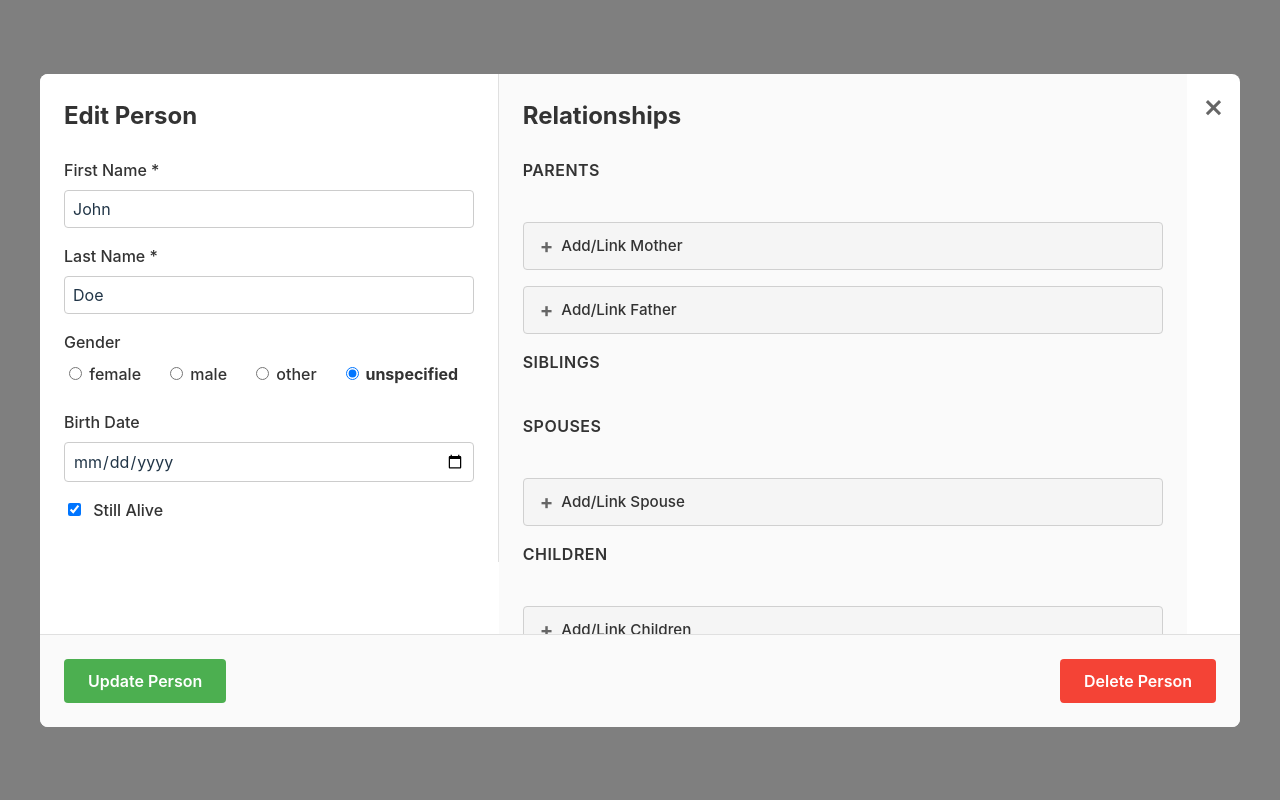
Test case: PersonModal - Spouses Section with CollapsibleActionPanel (Issue #54) › AC2: Expand shows Create/Link options › should expand panel and show two option buttons when clicked
This screenshot has width=1280, height=800.
WHEN user clicks the trigger button
Click the button with class "trigger-button" showing "+ Add/Link Spouse": click(623, 502) [523,478,1163,526]
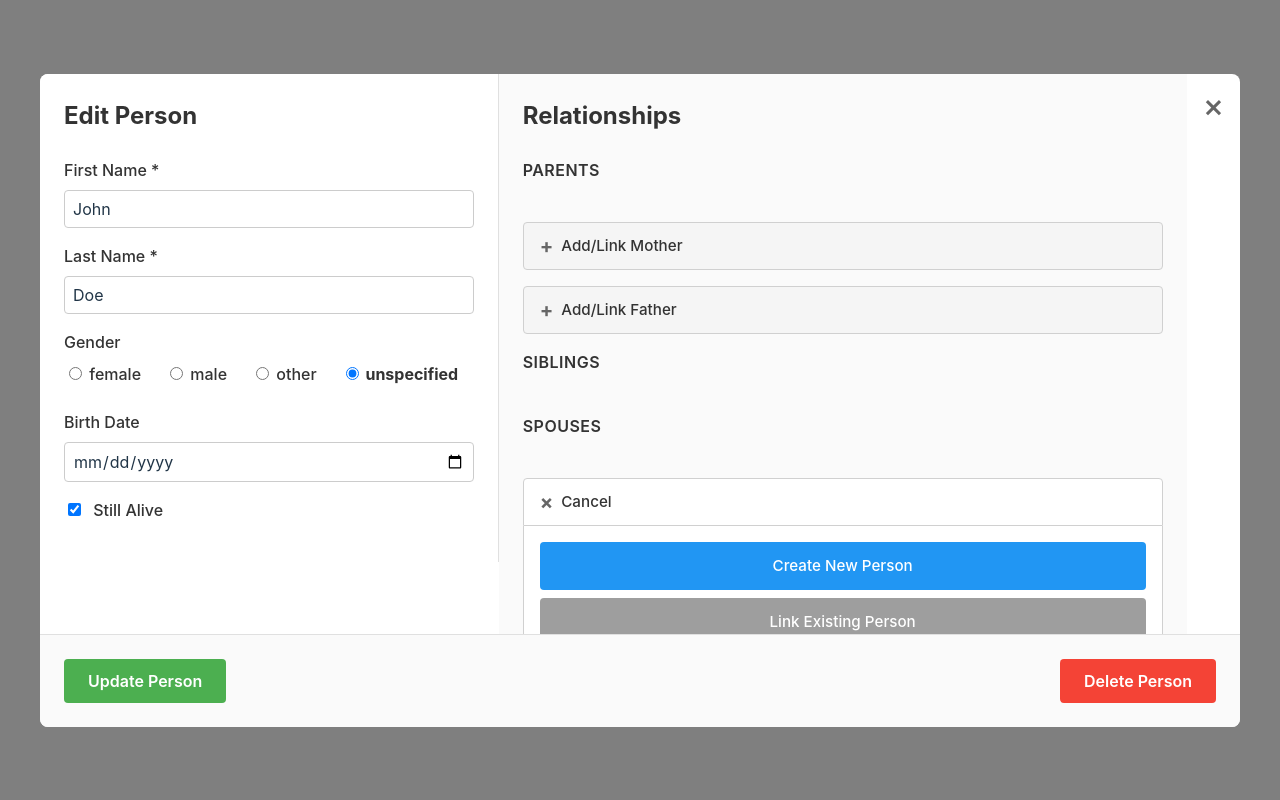
Now the button "Create New Person" is shown, box [540,542,1146,590]
Now the button "Link Existing Person" is shown, box [540,598,1146,634]
Now the button with class "trigger-button" is expanded, box [523,478,1163,526]
